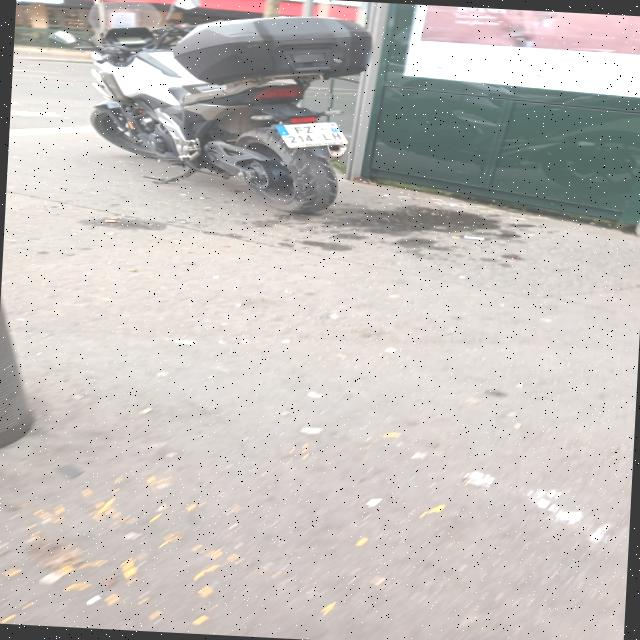EU: (265, 120, 356, 150)
France: (270, 125, 292, 135)
